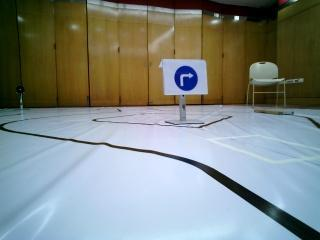right: (166, 65, 202, 91)
